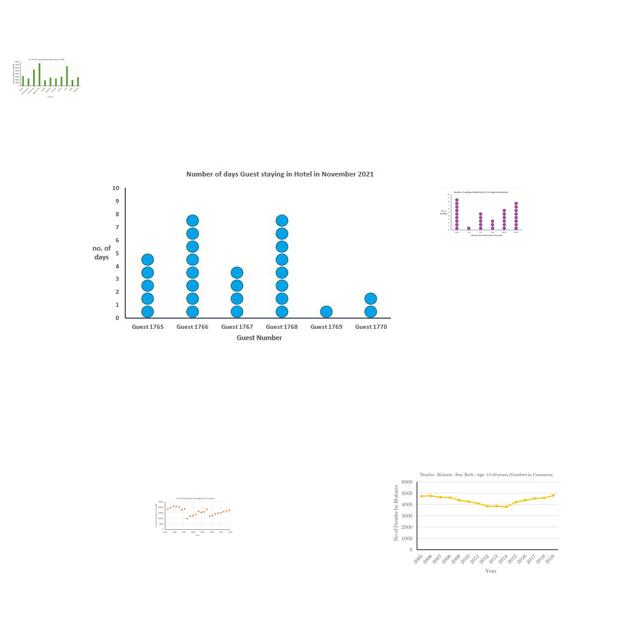Graph: (88, 167, 391, 346), (391, 469, 560, 576), (437, 188, 524, 239), (154, 496, 233, 538), (12, 58, 81, 98)
